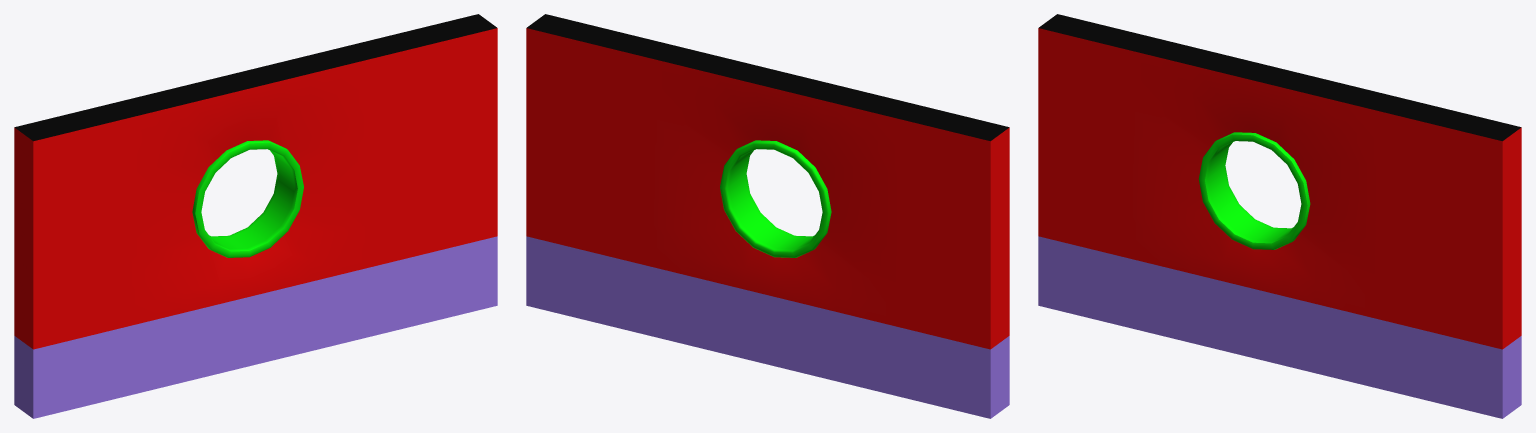
File: Wall_Window.fbx
3 renders of one model, left to right at view 1: azimuth 30°, elevation 25°; view 2: azimuth 150°, elevation 25°; view 3: azimuth 330°, elevation 25°, orthographic.
Parts seen in each view (by area): view 1: Wall_Window; view 2: Wall_Window; view 3: Wall_Window.
Part boxes in pixels (x1,y1,x2,y2): Wall_Window: (14,14,497,418); Wall_Window: (526,14,1009,418); Wall_Window: (1038,14,1521,418).
Bounding box in the file's own units: 700 × 400 × 55.1.
